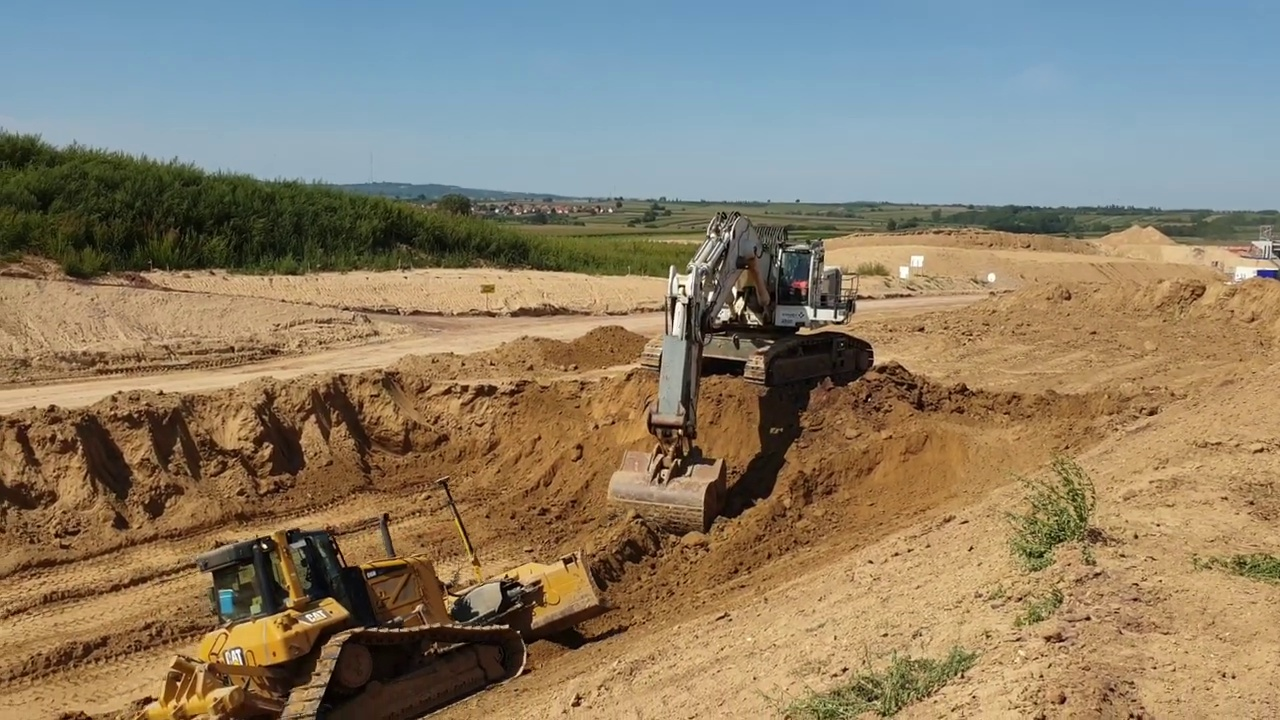bulldozer: (132, 475, 608, 720)
excavator: (606, 206, 878, 555)
